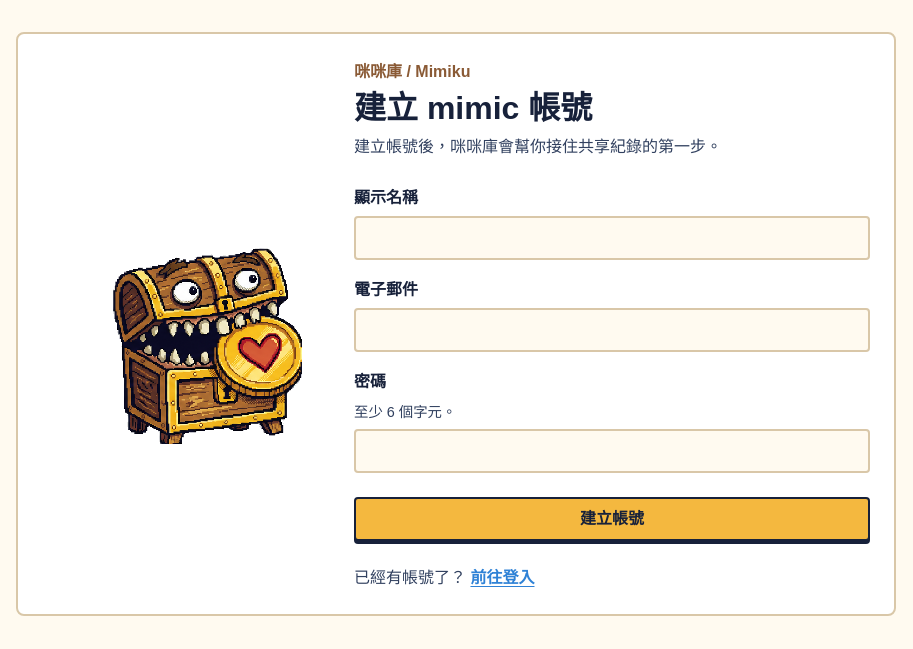
AuthForm › requires registration passwords to be at least six characters
Type "咪寶" into the field labelled "顯示名稱" at (612, 238), box [354,216,870,260]
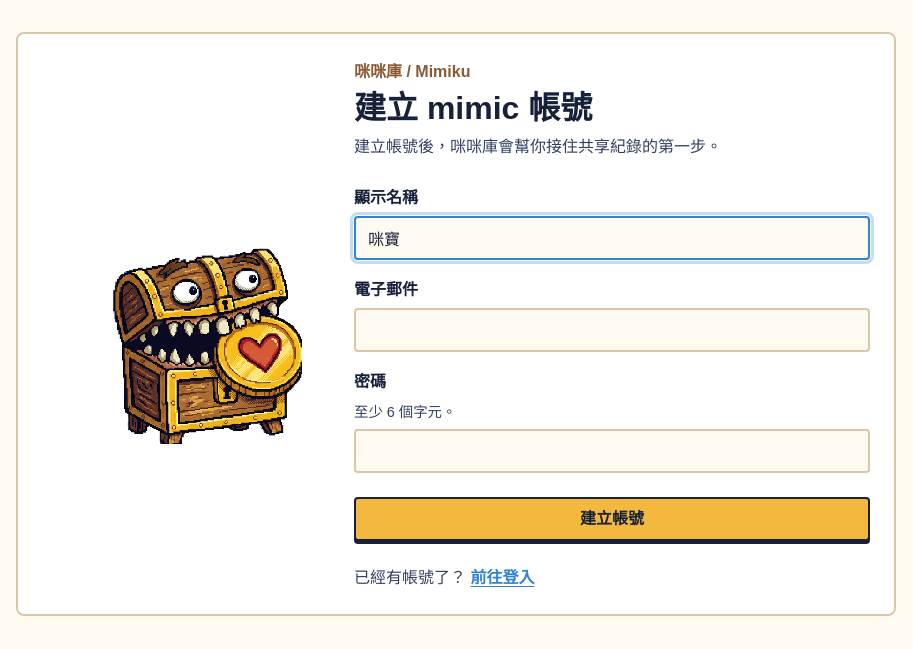
Type "mibo@example.com" into the field labelled "電子郵件" at (612, 330), box [354,308,870,352]
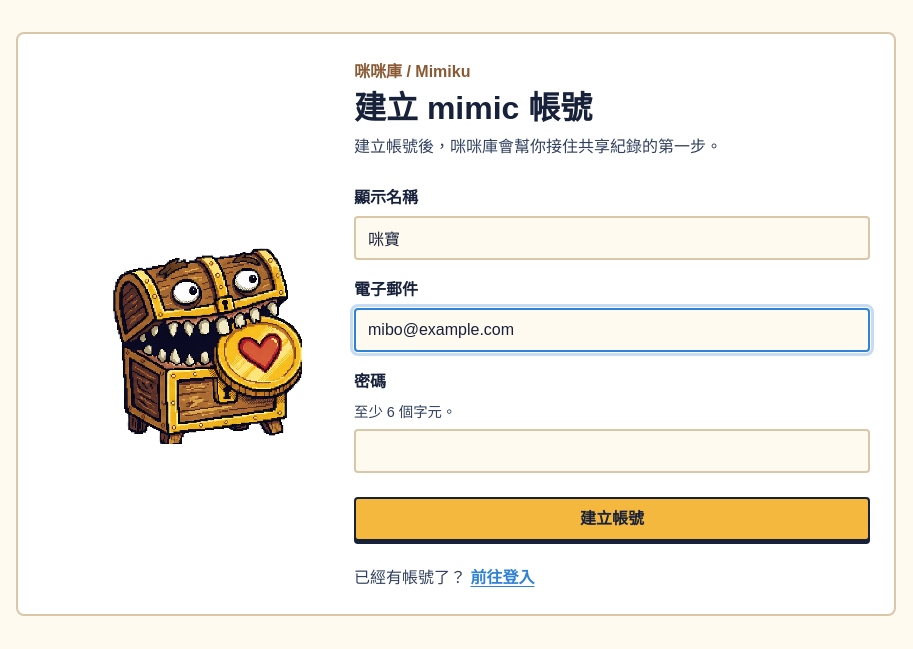
Type "12345" into the password field labelled "密碼" at (612, 451), box [354,429,870,473]
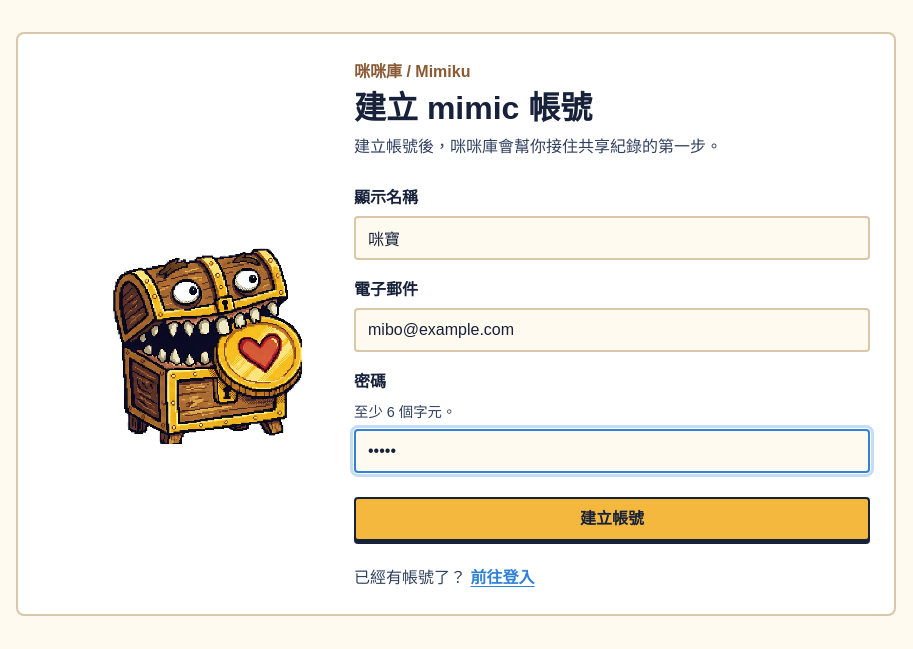
Click the button "建立帳號" at (612, 519), box [354,497,870,541]
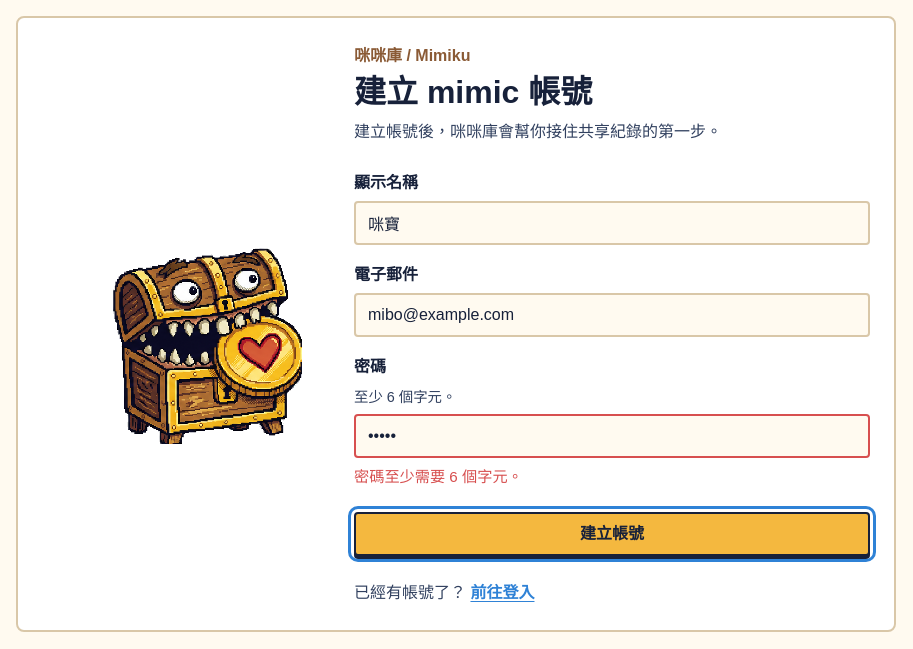
Now the text "密碼至少需要 6 個字元。" is shown, box [354,468,523,484]
